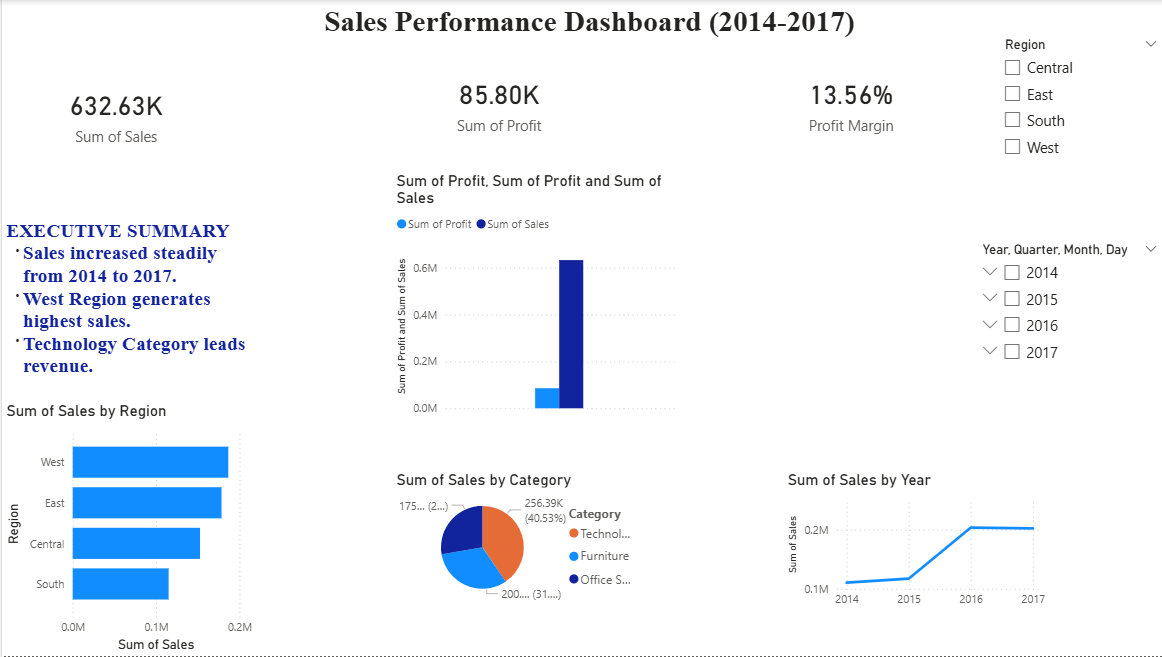

Layout of this report page (visuals, bound fields, positions):
{"tool":"powerbi","page":{"name":"P","canvas":[1280,720],"ordinal":0},"visuals":[{"type":"clusteredBarChart","fields":{"Y":["Sum(Sample_ Superstore.Sales)"],"Category":["Sample_ Superstore.Region"]},"box":[0,440.5,279.9,279.9],"z":0},{"type":"card","fields":{"Values":["Sum(Sample_ Superstore.Sales)"]},"box":[0,53.5,251.1,144.1],"z":1000},{"type":"lineChart","fields":{"Category":["Sample_ Superstore.Order Date.Variation.Date Hierarchy.Year","Sample_ Superstore.Order Date.Variation.Date Hierarchy.Quarter","Sample_ Superstore.Order Date.Variation.Date Hierarchy.Month","Sample_ Superstore.Order Date.Variation.Date Hierarchy.Day"],"Y":["Sum(Sample_ Superstore.Sales)"]},"box":[857.6,516,292.3,160.5],"z":2000},{"type":"pieChart","fields":{"Category":["Sample_ Superstore.Category"],"Y":["Sum(Sample_ Superstore.Sales)"]},"box":[428.1,516,279.9,150.9],"z":3000},{"type":"slicer","fields":{"Values":["Sample_ Superstore.Region"]},"box":[1088.2,35.7,192.1,188],"z":4000},{"type":"slicer","fields":{"Values":["Sample_ Superstore.Order Date.Variation.Date Hierarchy.Year","Sample_ Superstore.Order Date.Variation.Date Hierarchy.Quarter","Sample_ Superstore.Order Date.Variation.Date Hierarchy.Month","Sample_ Superstore.Order Date.Variation.Date Hierarchy.Day"]},"box":[1063.5,260.7,216.8,220.9],"z":5000},{"type":"card","fields":{"Values":["Sum(Sample_ Superstore.Profit)"]},"box":[415.8,53.5,260.7,119.4],"z":6000},{"type":"clusteredColumnChart","fields":{"Y":["Sum(Sample_ Superstore.Profit)","Sum(Sample_ Superstore.Profit)","Sum(Sample_ Superstore.Sales)"]},"box":[428.1,188,315.6,274.4],"z":7000},{"type":"card","fields":{"Values":["Sample_ Superstore.Profit Margin"]},"box":[819.2,53.5,226.4,119.4],"z":7001},{"type":"textbox","box":[340.3,0,609.3,78.2],"z":7002},{"type":"textbox","box":[0,236,279.9,190.7],"z":7003}]}

Visuals, with their boxes in screenshot pixels (x1, y1, x2, y2), scaled from the page's 1280x720 canvas onto the 1162x657 screenshot:
clusteredBarChart - Sum(Sample_ Superstore.Sales) x Sample_ Superstore.Region: x1=0, y1=402, x2=254, y2=656
card - Sum(Sample_ Superstore.Sales): x1=0, y1=49, x2=228, y2=180
lineChart - Sample_ Superstore.Order Date.Variation.Date Hierarchy.Year x Sample_ Superstore.Order Date.Variation.Date Hierarchy.Quarter: x1=779, y1=471, x2=1044, y2=617
pieChart - Sample_ Superstore.Category x Sum(Sample_ Superstore.Sales): x1=389, y1=471, x2=643, y2=609
slicer - Sample_ Superstore.Region: x1=988, y1=33, x2=1161, y2=204
slicer - Sample_ Superstore.Order Date.Variation.Date Hierarchy.Year x Sample_ Superstore.Order Date.Variation.Date Hierarchy.Quarter: x1=965, y1=238, x2=1161, y2=439
card - Sum(Sample_ Superstore.Profit): x1=377, y1=49, x2=614, y2=158
clusteredColumnChart - Sum(Sample_ Superstore.Profit) x Sum(Sample_ Superstore.Profit): x1=389, y1=172, x2=675, y2=422
card - Sample_ Superstore.Profit Margin: x1=744, y1=49, x2=949, y2=158
textbox: x1=309, y1=0, x2=862, y2=71
textbox: x1=0, y1=215, x2=254, y2=389
